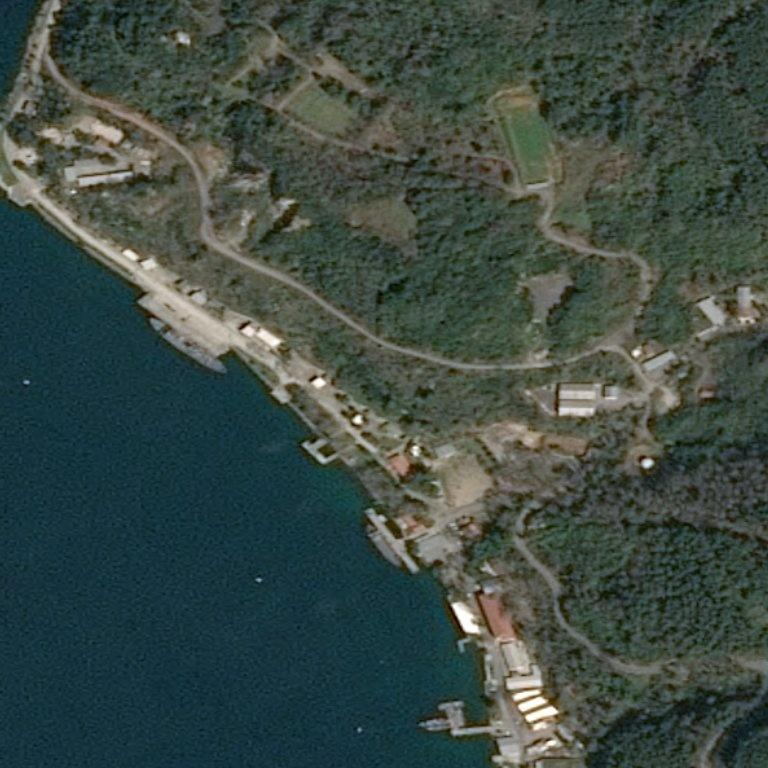ship: (143, 310, 233, 381), (0, 518, 25, 575)
